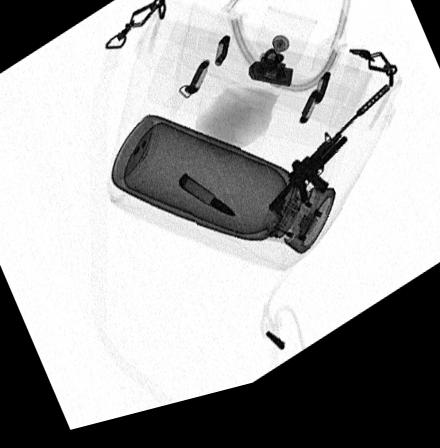Bullet: (178, 185, 236, 228)
Gun: (266, 103, 391, 235)
